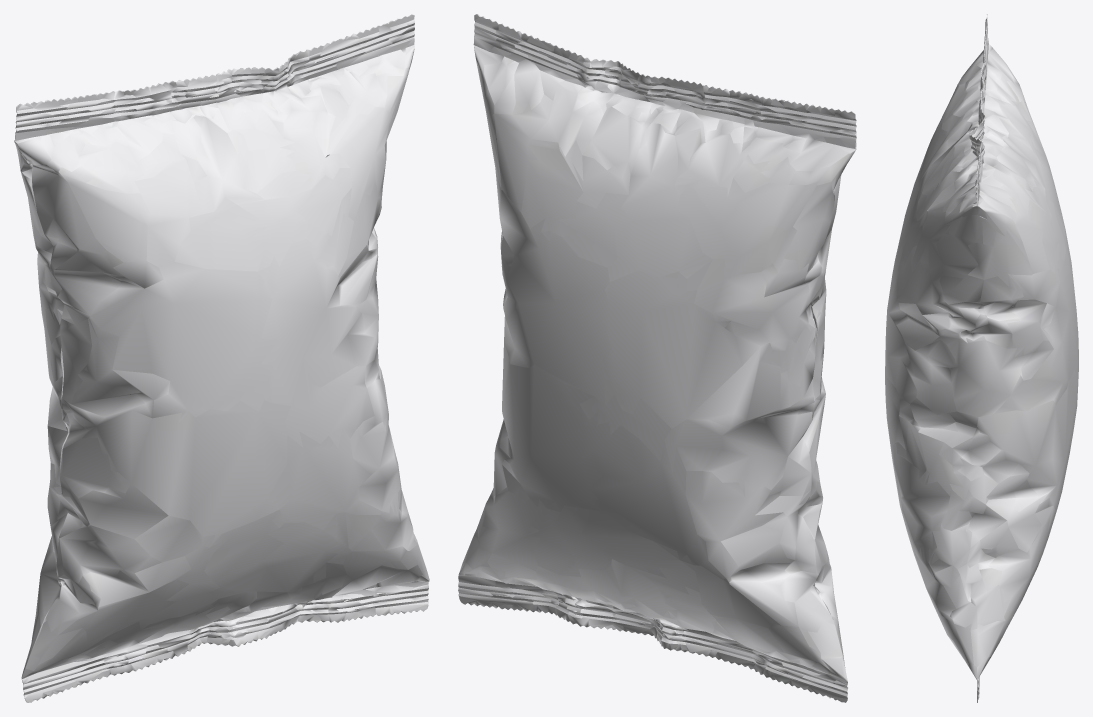
File: bag.glb
The picture shows the model from 3 angles, left to right: view 1: azimuth 30°, elevation 25°; view 2: azimuth 150°, elevation 25°; view 3: azimuth 270°, elevation 25°; orthographic projection. The views are drawn at different scales.
Visible parts, largest first — view 1: Mesh_0; view 2: Mesh_0; view 3: Mesh_0.
Boxes of the visible parts, x1,y1,x2,y2 form: Mesh_0: (14, 14, 429, 702); Mesh_0: (458, 14, 856, 702); Mesh_0: (885, 14, 1078, 702).
Bounding box in the file's own units: 1.35 × 1.9 × 0.6407.
Materials: 1 (1 with a texture image).
